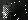person: (5, 6, 15, 20)
